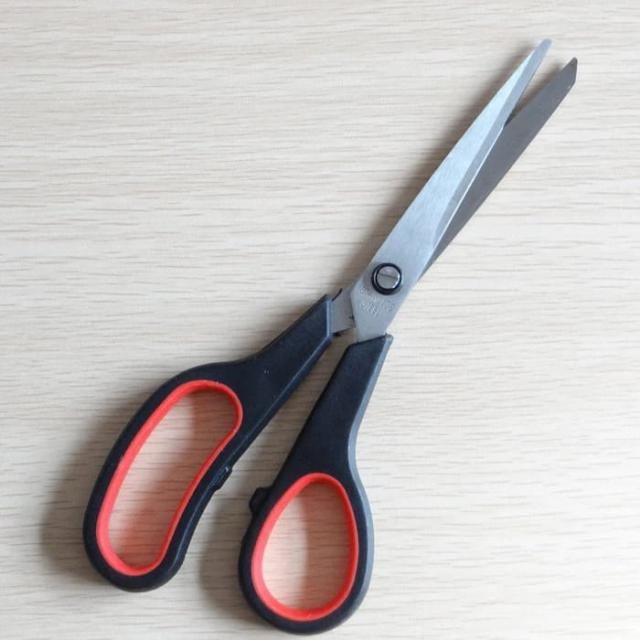scissor: (89, 13, 610, 640)
